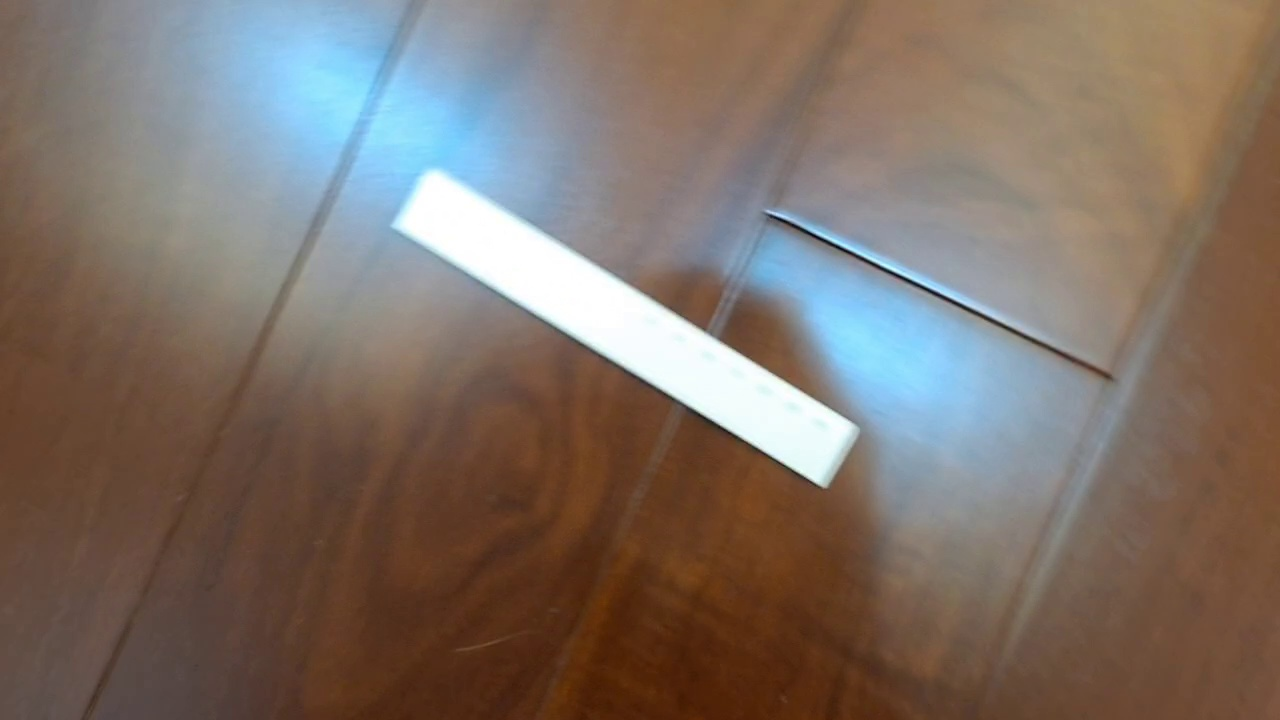ruler: (388, 164, 862, 491)
